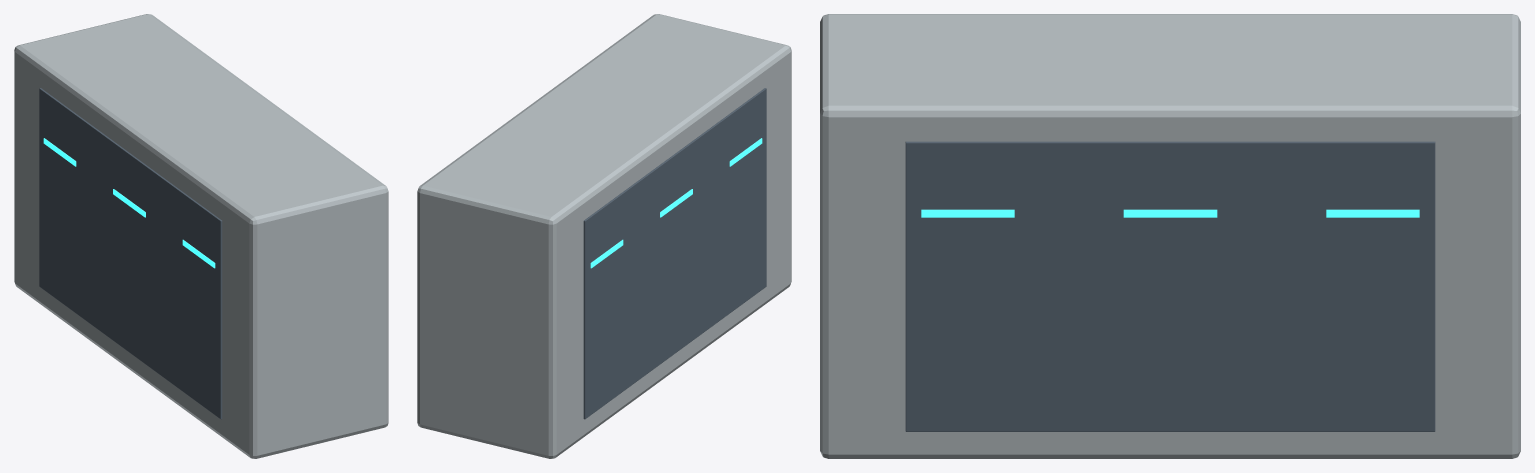
Rendered from training-pillar.glb.
3 renders of one model, left to right at view 1: azimuth 30°, elevation 25°; view 2: azimuth 150°, elevation 25°; view 3: azimuth 270°, elevation 25°, orthographic. The views are drawn at different scales.
Parts seen in each view (by area): view 1: Visual_TrainingPillar_Shell, Visual_Merged_ZA_TrainingPillar_Root_Graphite_Paint, Visual_Merged_ZA_TrainingPillar_Root_Zero_Cyan_Emissive; view 2: Visual_TrainingPillar_Shell, Visual_Merged_ZA_TrainingPillar_Root_Graphite_Paint, Visual_Merged_ZA_TrainingPillar_Root_Zero_Cyan_Emissive; view 3: Visual_TrainingPillar_Shell, Visual_Merged_ZA_TrainingPillar_Root_Graphite_Paint, Visual_Merged_ZA_TrainingPillar_Root_Zero_Cyan_Emissive.
Boxes of the visible parts, left/top/right/bottom form: Visual_TrainingPillar_Shell: left=14, top=14, right=388, bottom=458; Visual_Merged_ZA_TrainingPillar_Root_Graphite_Paint: left=39, top=88, right=222, bottom=419; Visual_Merged_ZA_TrainingPillar_Root_Zero_Cyan_Emissive: left=43, top=138, right=215, bottom=268; Visual_TrainingPillar_Shell: left=417, top=14, right=791, bottom=458; Visual_Merged_ZA_TrainingPillar_Root_Graphite_Paint: left=583, top=88, right=766, bottom=419; Visual_Merged_ZA_TrainingPillar_Root_Zero_Cyan_Emissive: left=590, top=138, right=762, bottom=268; Visual_TrainingPillar_Shell: left=820, top=14, right=1520, bottom=458; Visual_Merged_ZA_TrainingPillar_Root_Graphite_Paint: left=905, top=141, right=1435, bottom=431; Visual_Merged_ZA_TrainingPillar_Root_Zero_Cyan_Emissive: left=921, top=209, right=1419, bottom=217.
Size of the model in its own units: 3.13 by 5 by 9.
